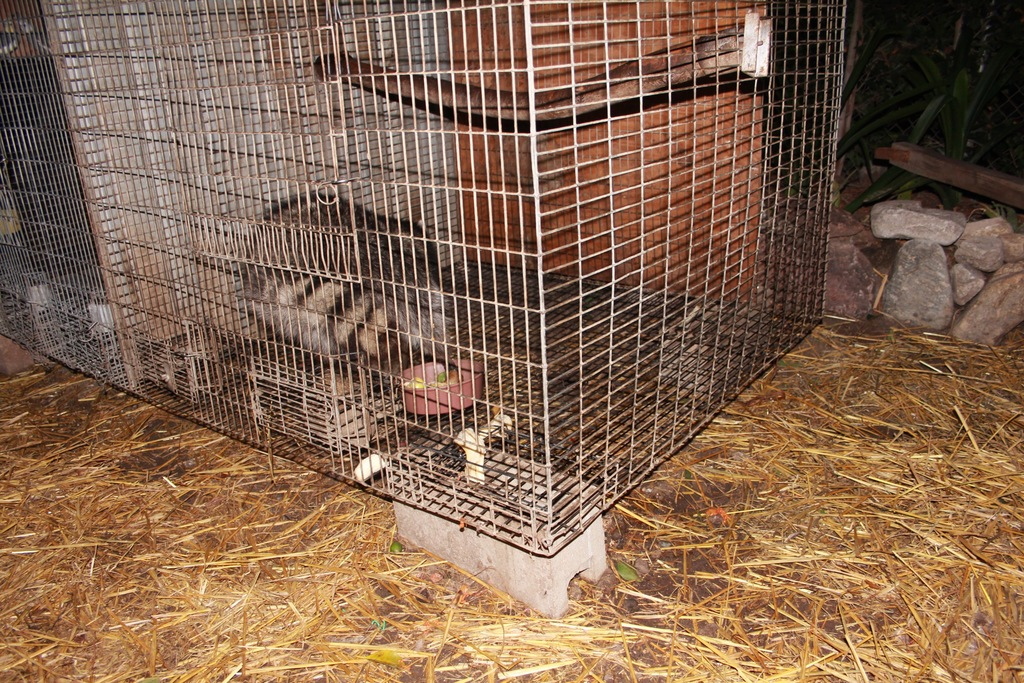Animal: (238, 189, 459, 381)
